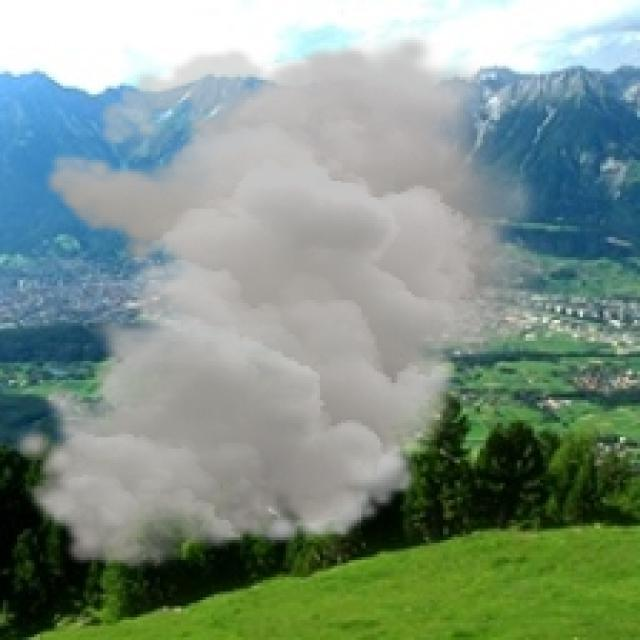Smoke: (8, 31, 560, 572)
